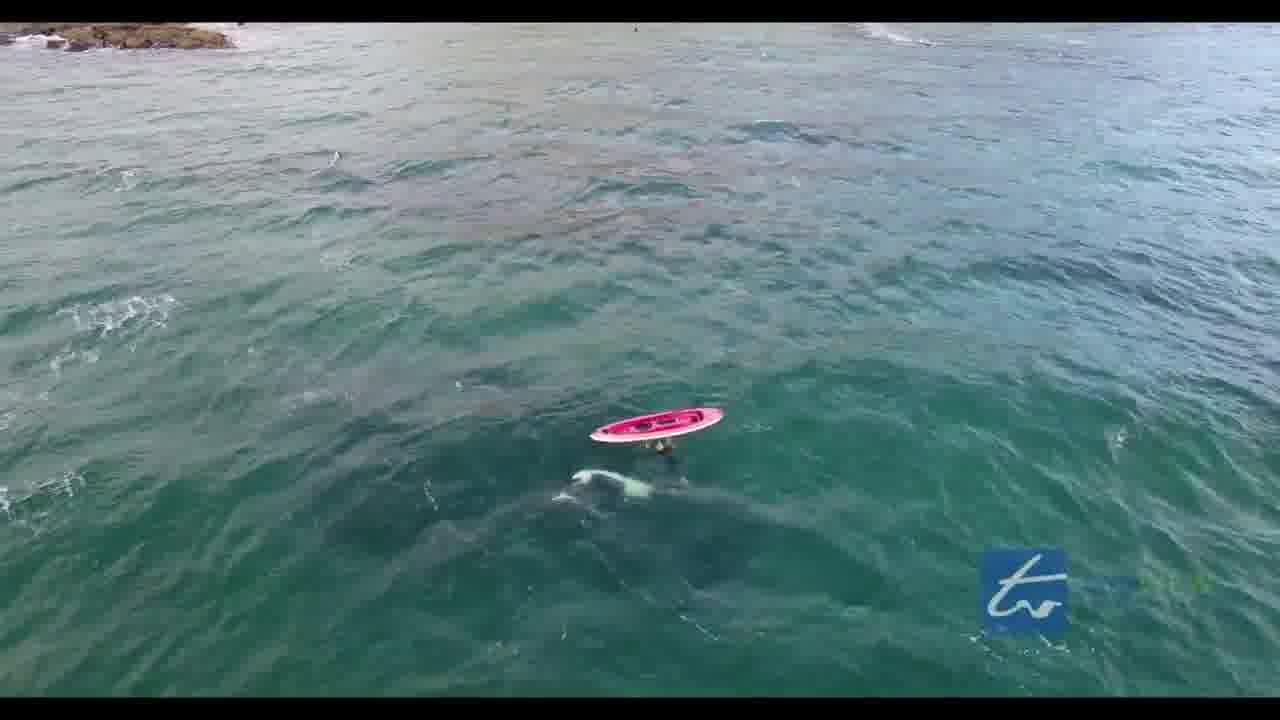human: (639, 437, 682, 468)
